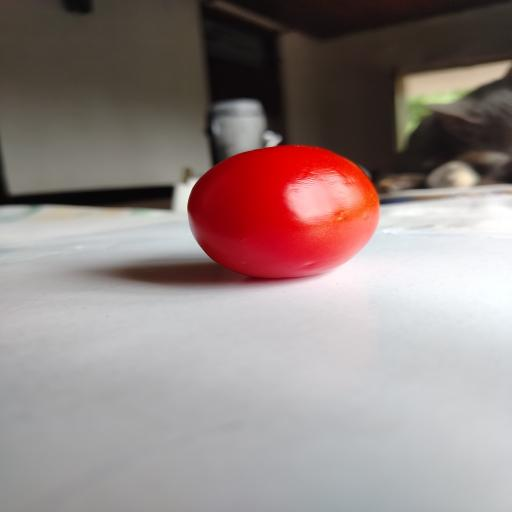ripe: (188, 145, 379, 278)
